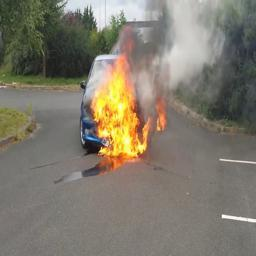fire: (91, 53, 149, 158)
